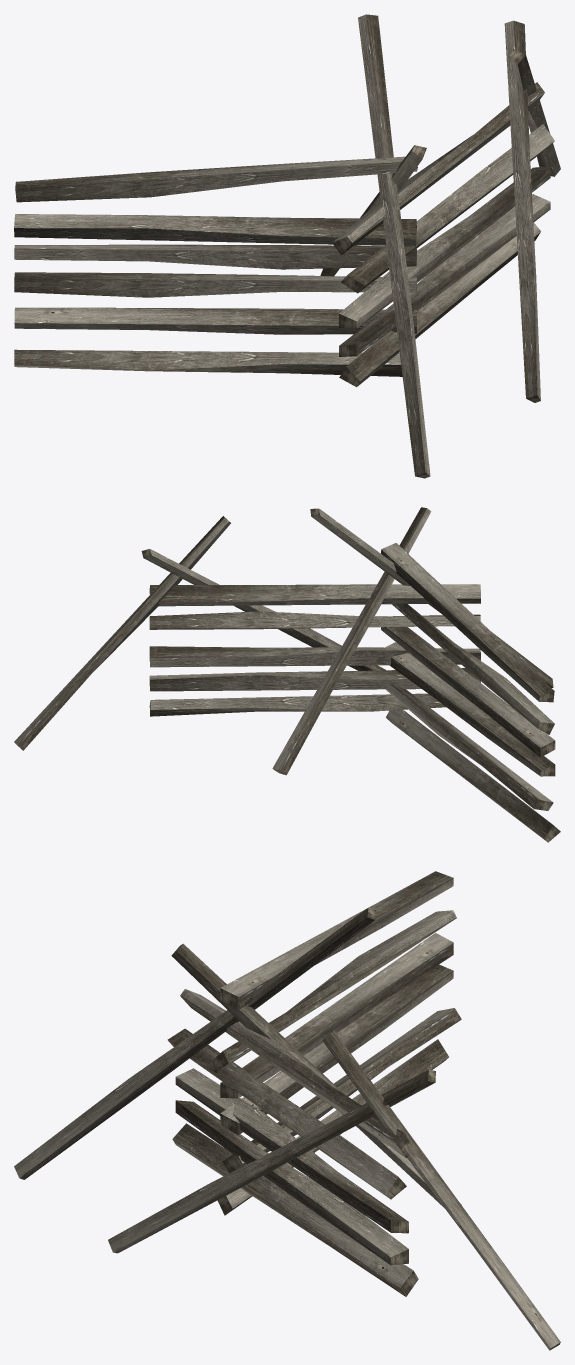
File: SplitRailFence.FBX
3 renders of one model, top to bottom at view 1: azimuth 30°, elevation 25°; view 2: azimuth 150°, elevation 25°; view 3: azimuth 270°, elevation 25°, orthographic. The views are drawn at different scales.
Visible parts, largest first — view 1: WoodBeamFence019, WoodBeamFence008, WoodBeamFence002, WoodBeamFence026, WoodBeamFence003, WoodBeamFence001, WoodBeamFence, WoodBeamFence033, WoodBeamFence021, WoodBeamFence025, WoodBeamFence022, WoodBeamFence024 (+3 smaller); view 2: WoodBeamFence023, WoodBeamFence021, WoodBeamFence026, WoodBeamFence025, WoodBeamFence, WoodBeamFence024, WoodBeamFence022, WoodBeamFence020, WoodBeamFence001, WoodBeamFence034, WoodBeamFence003, WoodBeamFence002 (+3 smaller); view 3: WoodBeamFence008, WoodBeamFence033, WoodBeamFence025, WoodBeamFence034, WoodBeamFence, WoodBeamFence021, WoodBeamFence024, WoodBeamFence022, WoodBeamFence001, WoodBeamFence026, WoodBeamFence019, WoodBeamFence023 (+3 smaller).
Part boxes in pixels (x1,y1,x2,y2): WoodBeamFence019: (14, 214, 416, 246); WoodBeamFence008: (358, 14, 430, 478); WoodBeamFence002: (14, 307, 416, 334); WoodBeamFence026: (15, 156, 417, 202); WoodBeamFence003: (14, 349, 402, 376); WoodBeamFence001: (14, 272, 416, 297); WoodBeamFence: (14, 244, 416, 269); WoodBeamFence033: (504, 20, 540, 402); WoodBeamFence021: (339, 166, 550, 328); WoodBeamFence025: (339, 194, 550, 356); WoodBeamFence022: (341, 124, 554, 293); WoodBeamFence024: (339, 222, 540, 387); WoodBeamFence023: (149, 584, 480, 606); WoodBeamFence021: (149, 646, 480, 667); WoodBeamFence026: (381, 543, 554, 702); WoodBeamFence025: (149, 668, 480, 691); WoodBeamFence: (381, 626, 555, 757); WoodBeamFence024: (149, 693, 445, 716); WoodBeamFence022: (149, 611, 480, 629); WoodBeamFence020: (272, 507, 431, 775); WoodBeamFence001: (385, 642, 555, 776); WoodBeamFence034: (14, 516, 230, 750); WoodBeamFence003: (386, 709, 560, 842); WoodBeamFence002: (386, 683, 553, 810); WoodBeamFence008: (14, 907, 375, 1179); WoodBeamFence033: (108, 1069, 435, 1253); WoodBeamFence025: (175, 1100, 408, 1265); WoodBeamFence034: (322, 1031, 560, 1350); WoodBeamFence: (220, 933, 453, 1098); WoodBeamFence021: (175, 1068, 408, 1233); WoodBeamFence024: (172, 1123, 418, 1296); WoodBeamFence022: (167, 1028, 406, 1199); WoodBeamFence001: (220, 964, 453, 1135); WoodBeamFence026: (220, 871, 453, 1009); WoodBeamFence019: (210, 910, 456, 1072); WoodBeamFence023: (180, 989, 410, 1158).
Bounding box in the file's own units: 348 × 174 × 263.
1 material, 1 textured.
